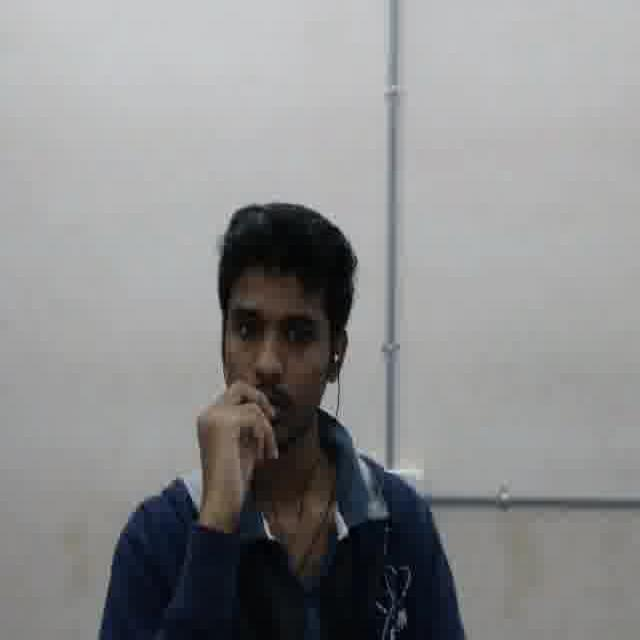Confusion: (222, 264, 324, 435)
